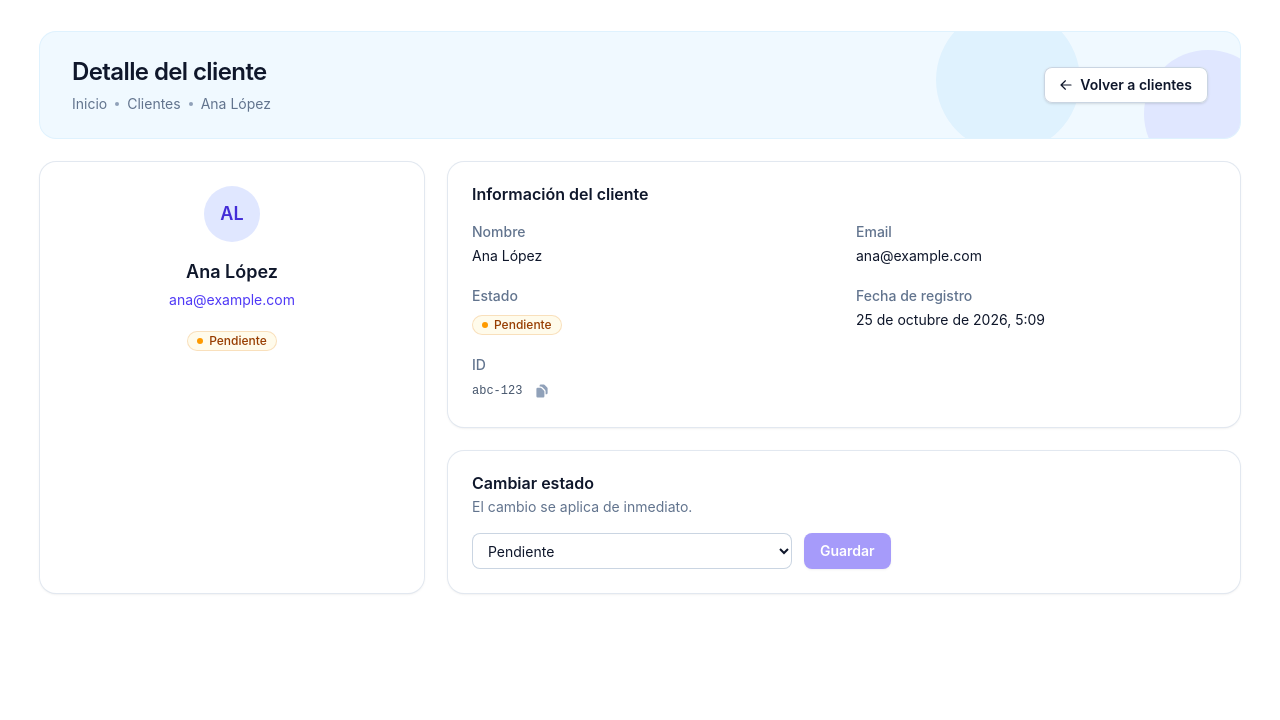
it: CustomerDetailScreen › asks for confirmation before changing the status, then notifies success (AC-17, AC-25)
Select "Bloqueado" in the dropdown named "Nuevo estado". click: coordinates (632, 551)
box: top-left (472, 533), bottom-right (792, 569)
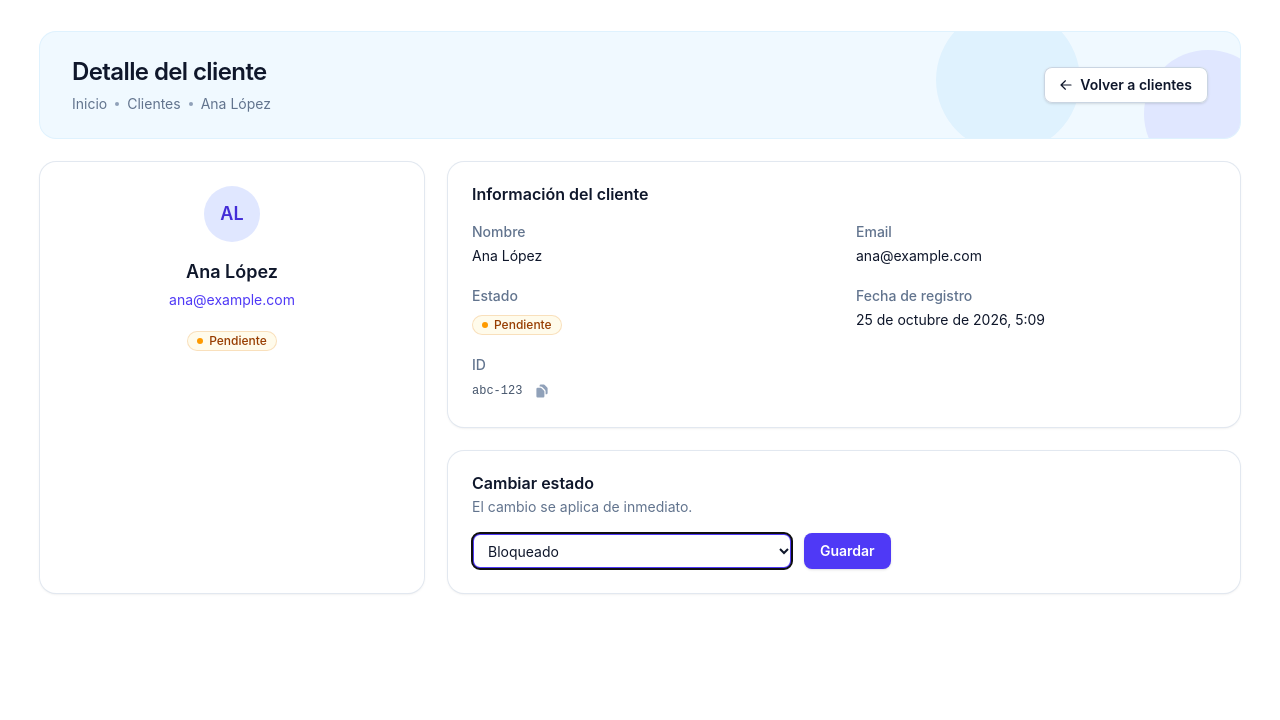
Click the button "Guardar". click: coordinates (847, 551)
box: top-left (804, 533), bottom-right (891, 569)
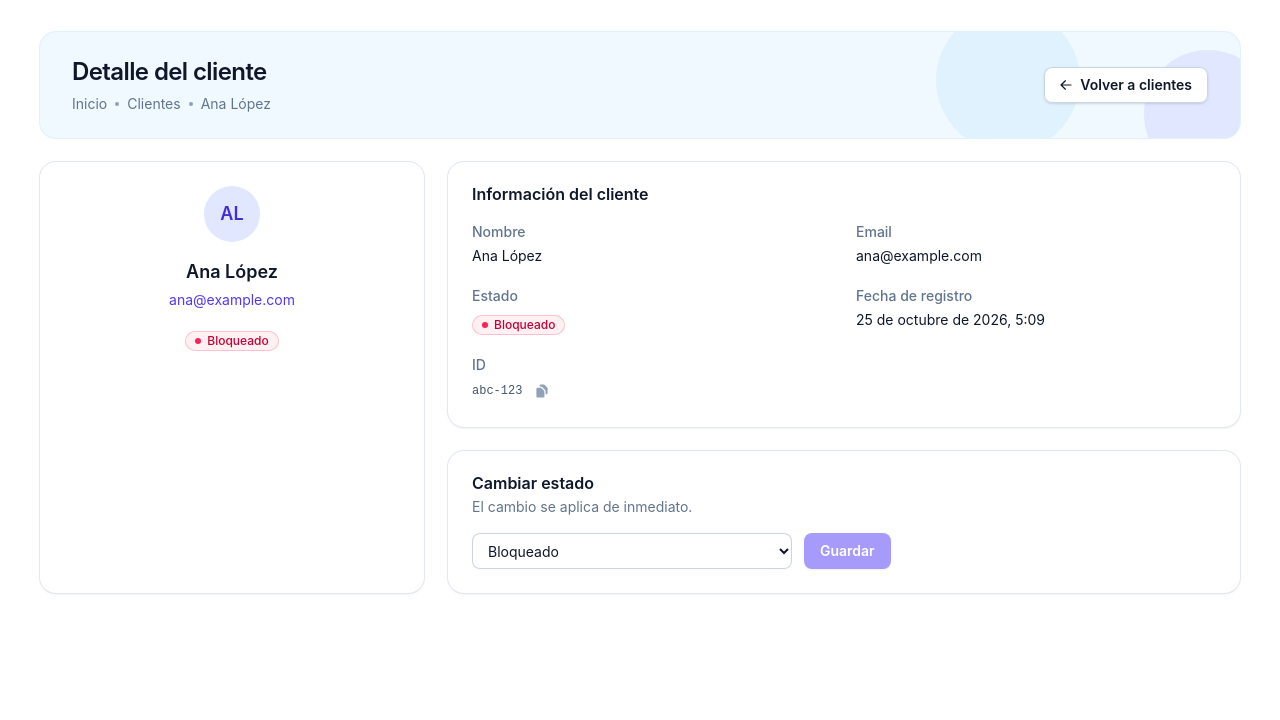
Result: the text "Bloqueado" is shown at top-left (185, 331), bottom-right (279, 351)
